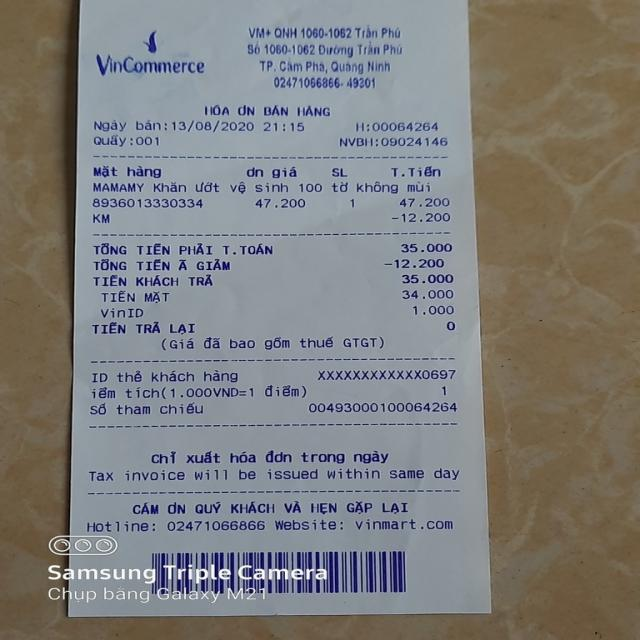Date: (171, 118, 256, 134)
Store_Name: (94, 52, 214, 79)
amount_number: (398, 241, 455, 254)
label_total: (93, 239, 278, 259)
